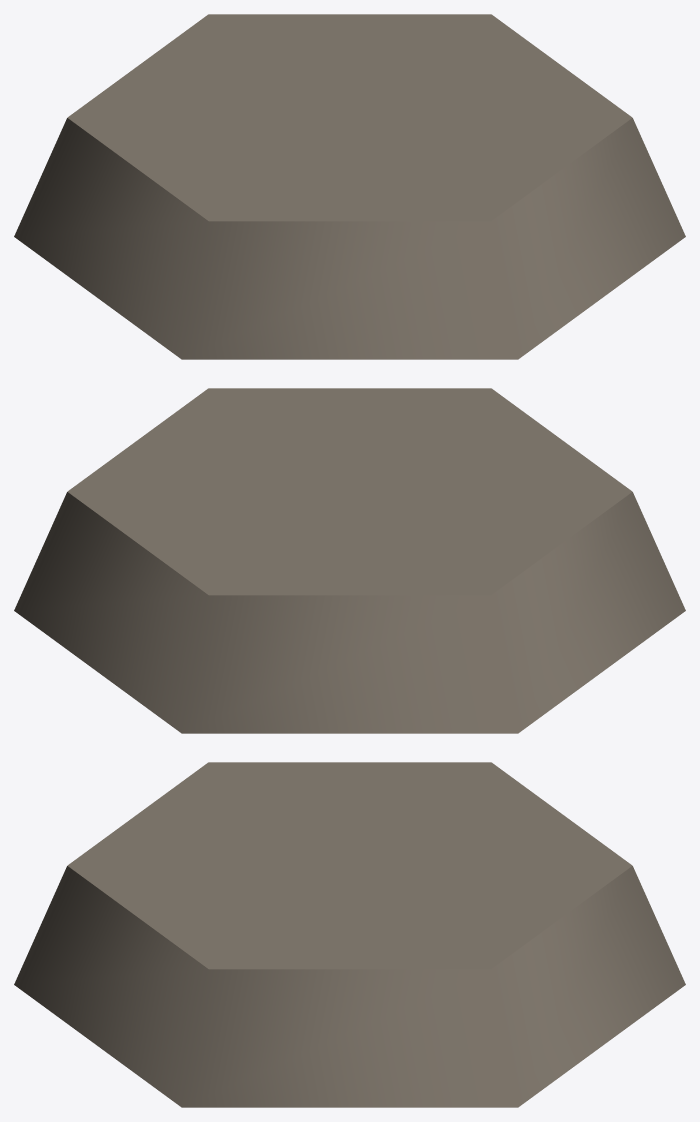
The model's file is AnteneHolder_1_C.fbx.
The picture shows the model from 3 angles, top to bottom: view 1: azimuth 30°, elevation 25°; view 2: azimuth 150°, elevation 25°; view 3: azimuth 270°, elevation 25°; orthographic projection.
Visible parts, largest first — view 1: AnteneHolder_1_C; view 2: AnteneHolder_1_C; view 3: AnteneHolder_1_C.
Boxes of the visible parts, box(x1,y1,x2,y2) form: AnteneHolder_1_C: box(14, 14, 685, 359); AnteneHolder_1_C: box(14, 388, 685, 733); AnteneHolder_1_C: box(14, 762, 685, 1107).
Size of the model in its own units: 29.47 by 6.66 by 34.03.
